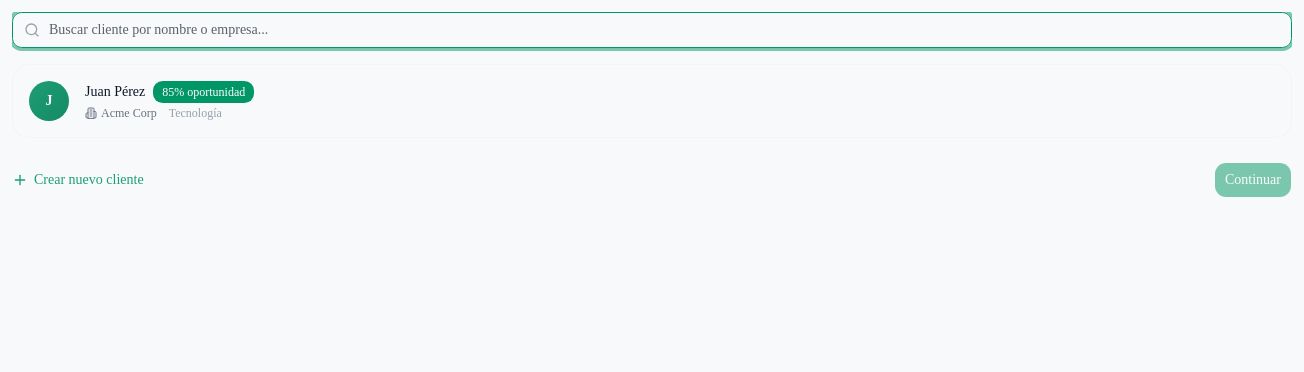
Test: Step1Client — "Analizar" button (selected-client flow) › inline URL panel appears after selecting an existing client
Click the text "Juan Pérez" at (115, 92), box [85,82,145,102]
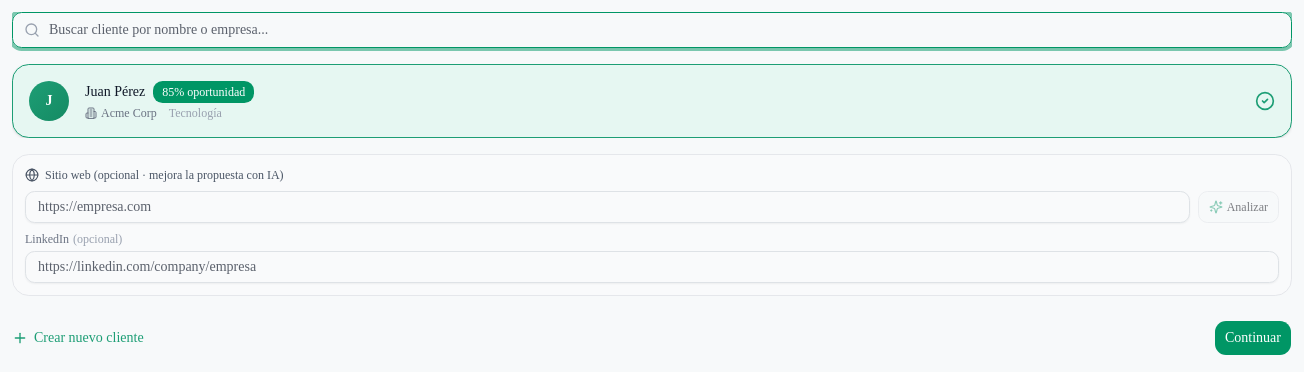
Expected: the field with placeholder "https://empresa.com" is shown, [25,191,1190,223]
